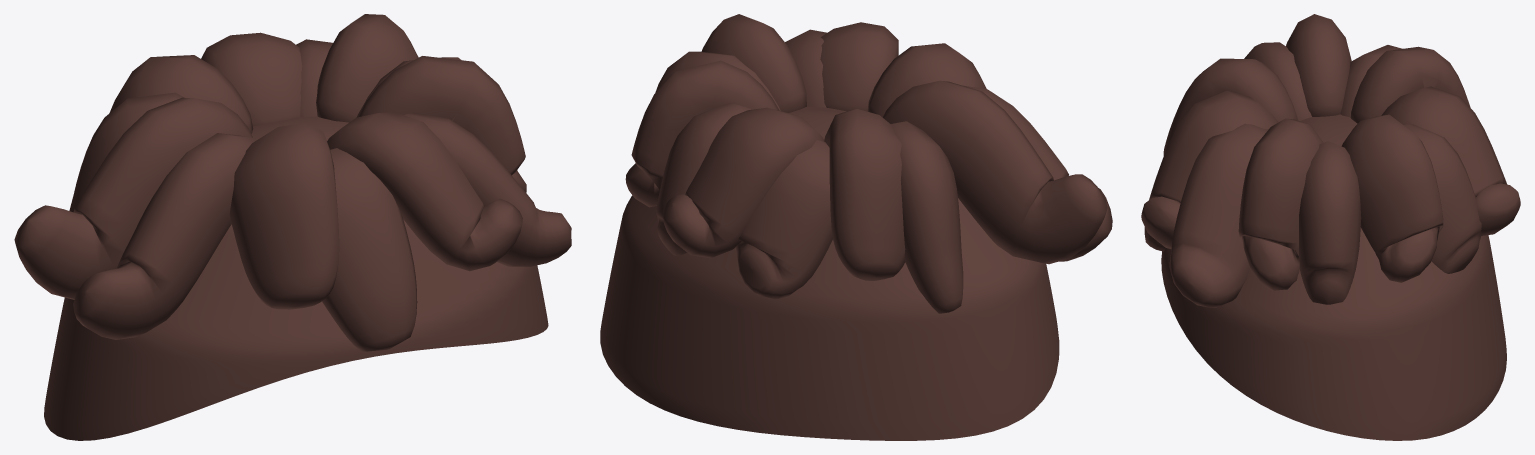
Rendered from studio_messy_spiky_default.glb.
3 views of the same model, side by side, from view 1: azimuth 30°, elevation 25°; view 2: azimuth 150°, elevation 25°; view 3: azimuth 270°, elevation 25° (orthographic). The views are drawn at different scales.
Parts seen in each view (by area): view 1: messy_spiky; view 2: messy_spiky; view 3: messy_spiky.
Boxes of the visible parts, x1,y1,x2,y2 form: messy_spiky: [14, 14, 571, 440]; messy_spiky: [600, 14, 1112, 440]; messy_spiky: [1141, 14, 1520, 440].
Bounding box in the file's own units: 0.5372 × 0.3315 × 0.3933.
